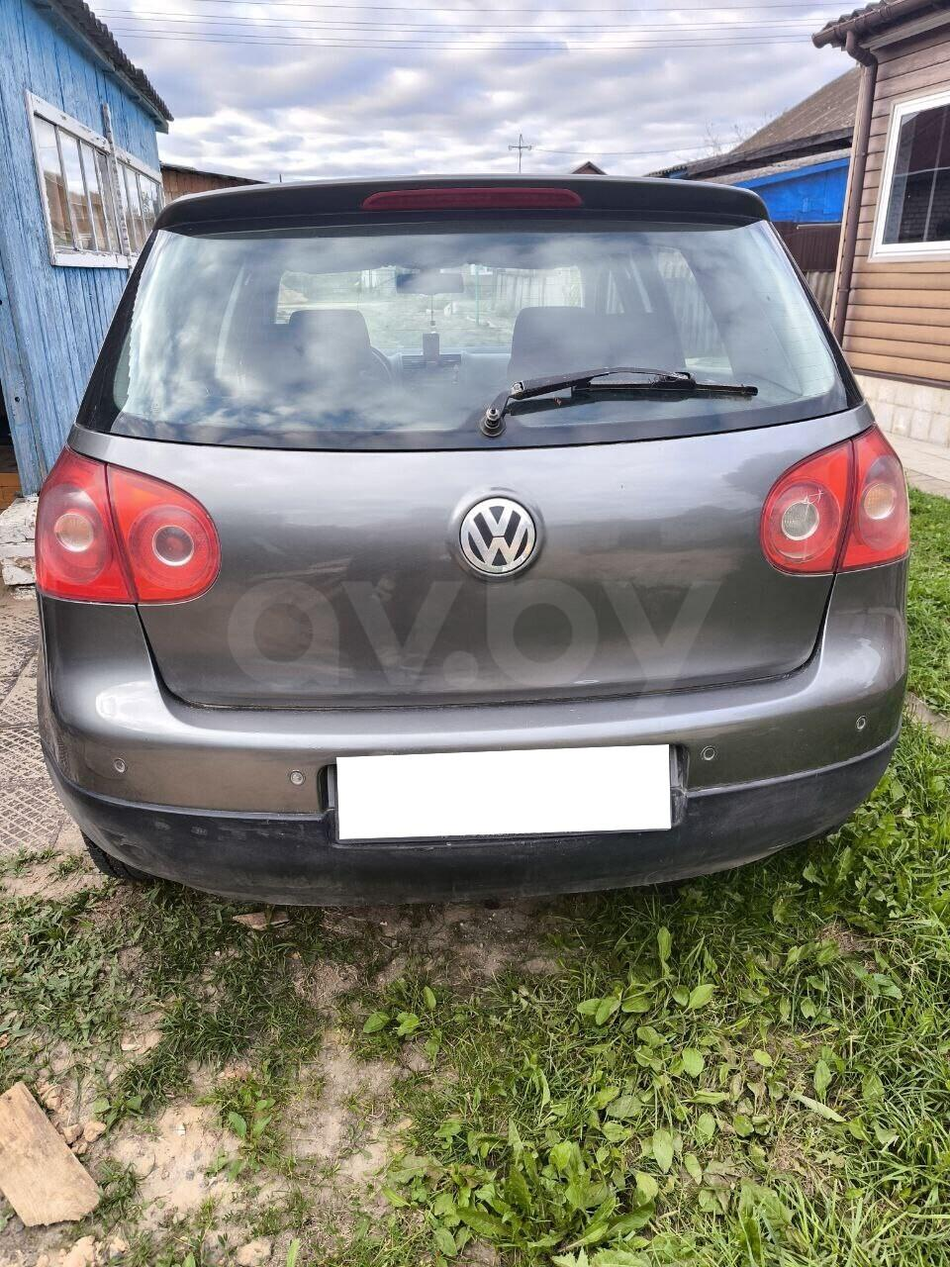Golf_2003-2009: (20, 169, 914, 916)
